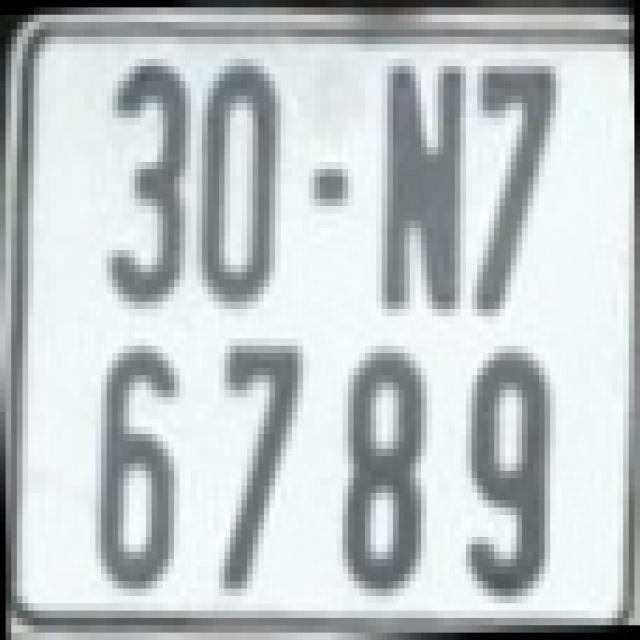0: (197, 66, 280, 302)
3: (112, 66, 190, 302)
6: (96, 346, 180, 588)
7: (219, 338, 303, 588), (477, 58, 556, 316)
8: (342, 346, 427, 588)
9: (466, 346, 550, 596)
N: (376, 59, 466, 309)
